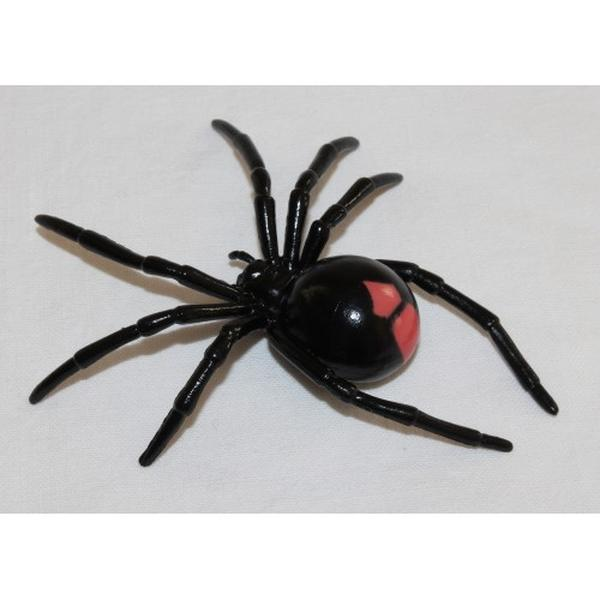Redback Spider: (36, 120, 557, 456)
